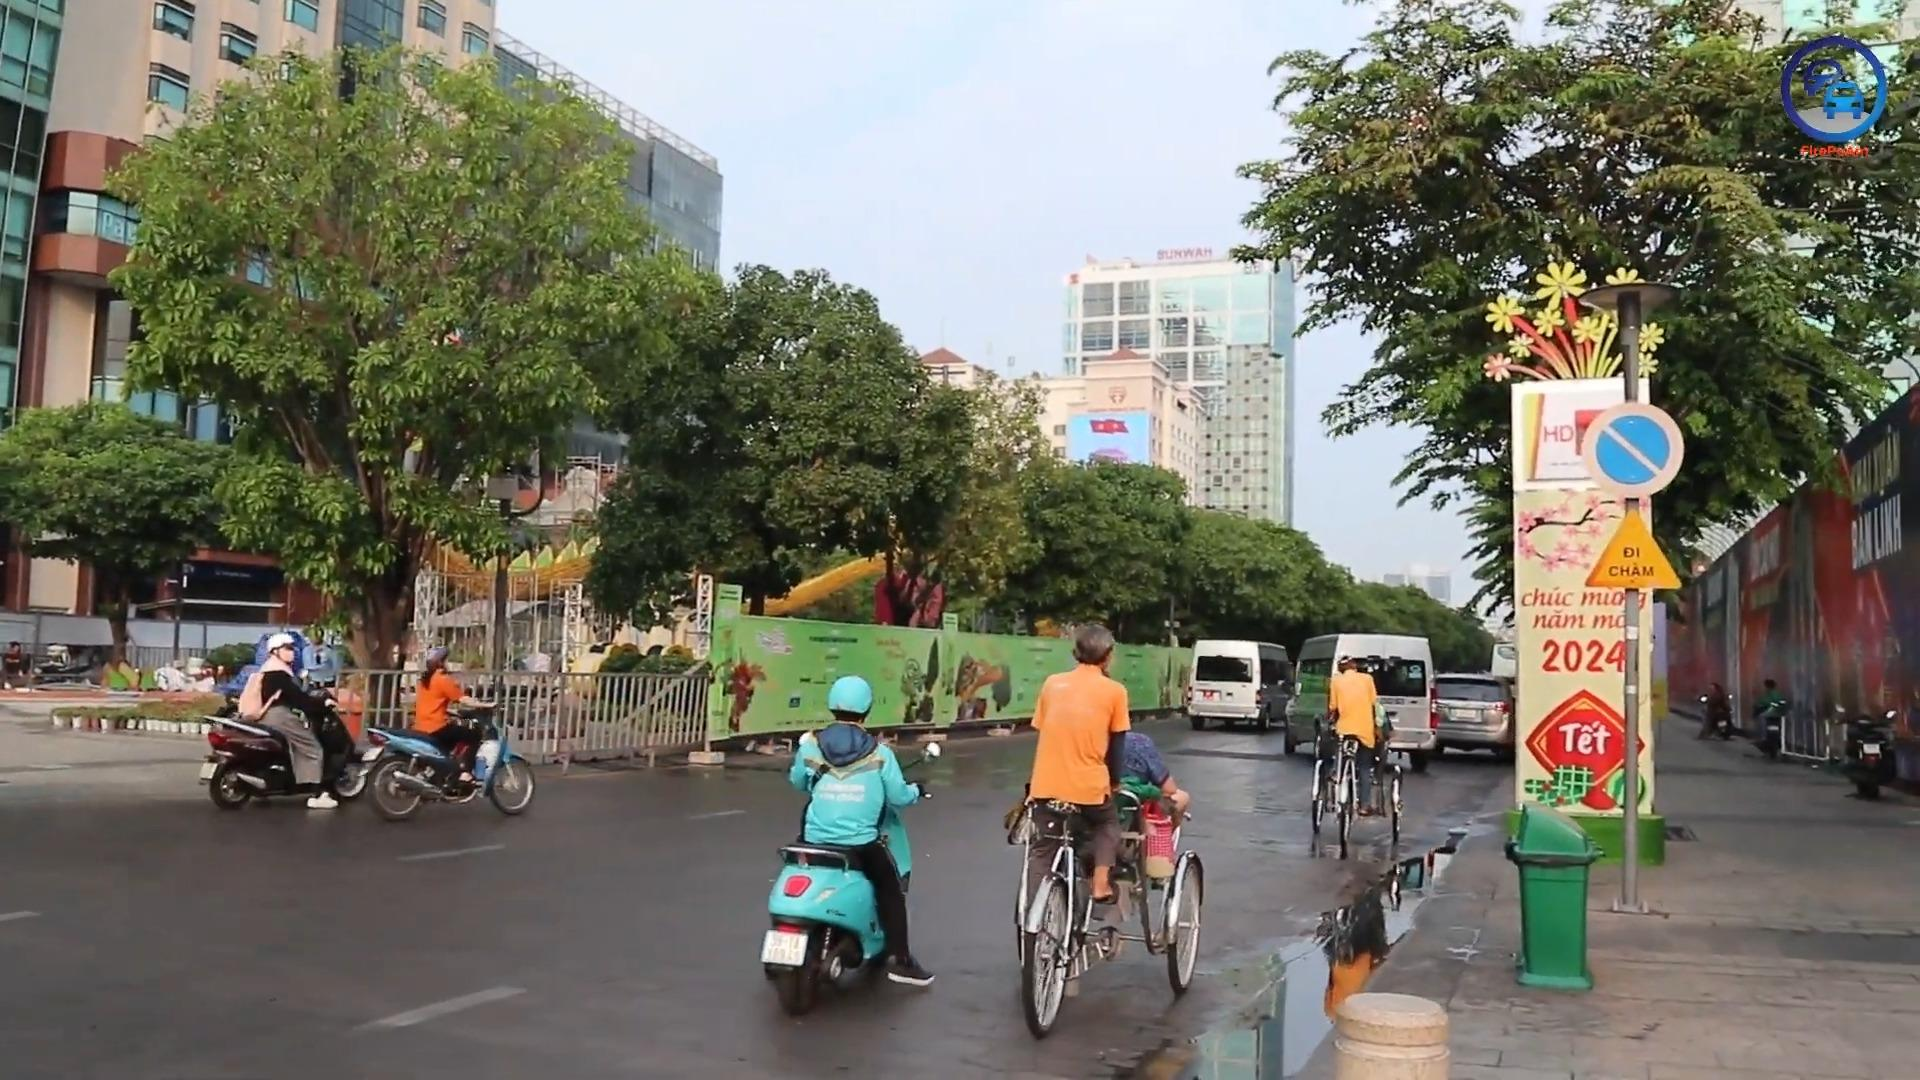bien_so: (759, 927, 810, 968)
